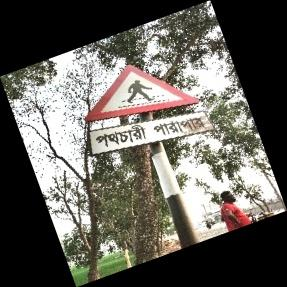Pedestrian-crossing: (84, 63, 209, 158)
